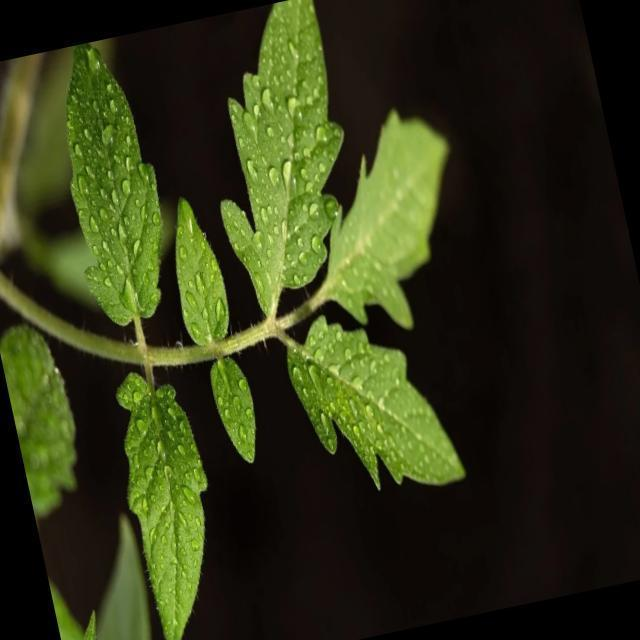Healthy Leaf: (182, 0, 379, 325), (99, 357, 241, 640), (276, 296, 466, 507), (42, 40, 177, 326), (156, 190, 234, 346), (204, 349, 266, 471)
